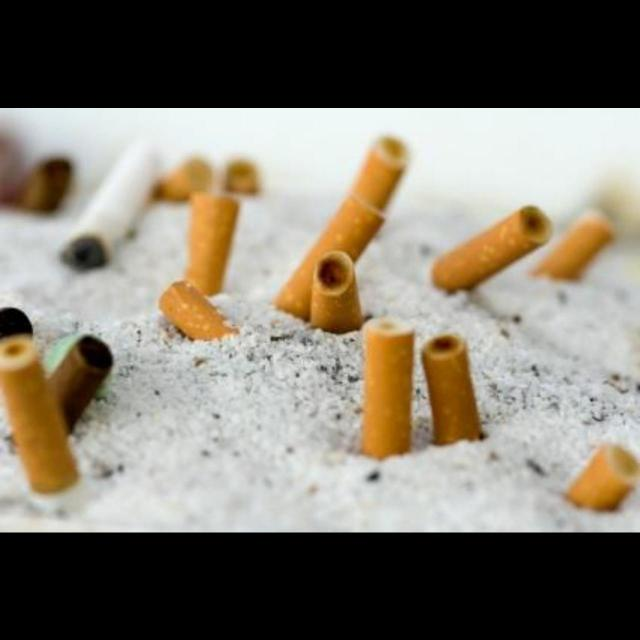cigarette: (274, 194, 386, 321), (58, 138, 156, 272), (0, 336, 79, 493), (430, 204, 555, 296), (361, 317, 416, 461), (420, 330, 485, 448), (49, 334, 113, 439), (185, 192, 239, 295), (533, 214, 616, 279), (158, 280, 241, 341), (566, 445, 638, 510), (311, 251, 363, 333), (354, 136, 408, 210), (18, 156, 71, 211), (156, 158, 212, 200), (227, 159, 259, 192)
